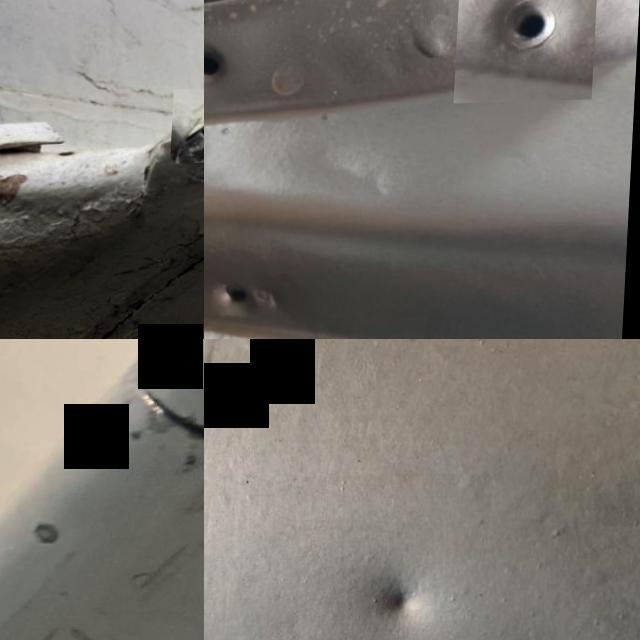Crack: (173, 89, 204, 165)
Dent: (344, 538, 467, 640)
Missing_Fastener: (457, 0, 601, 106), (204, 10, 284, 131)
